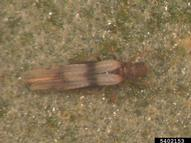Thrips: (13, 49, 153, 94)
